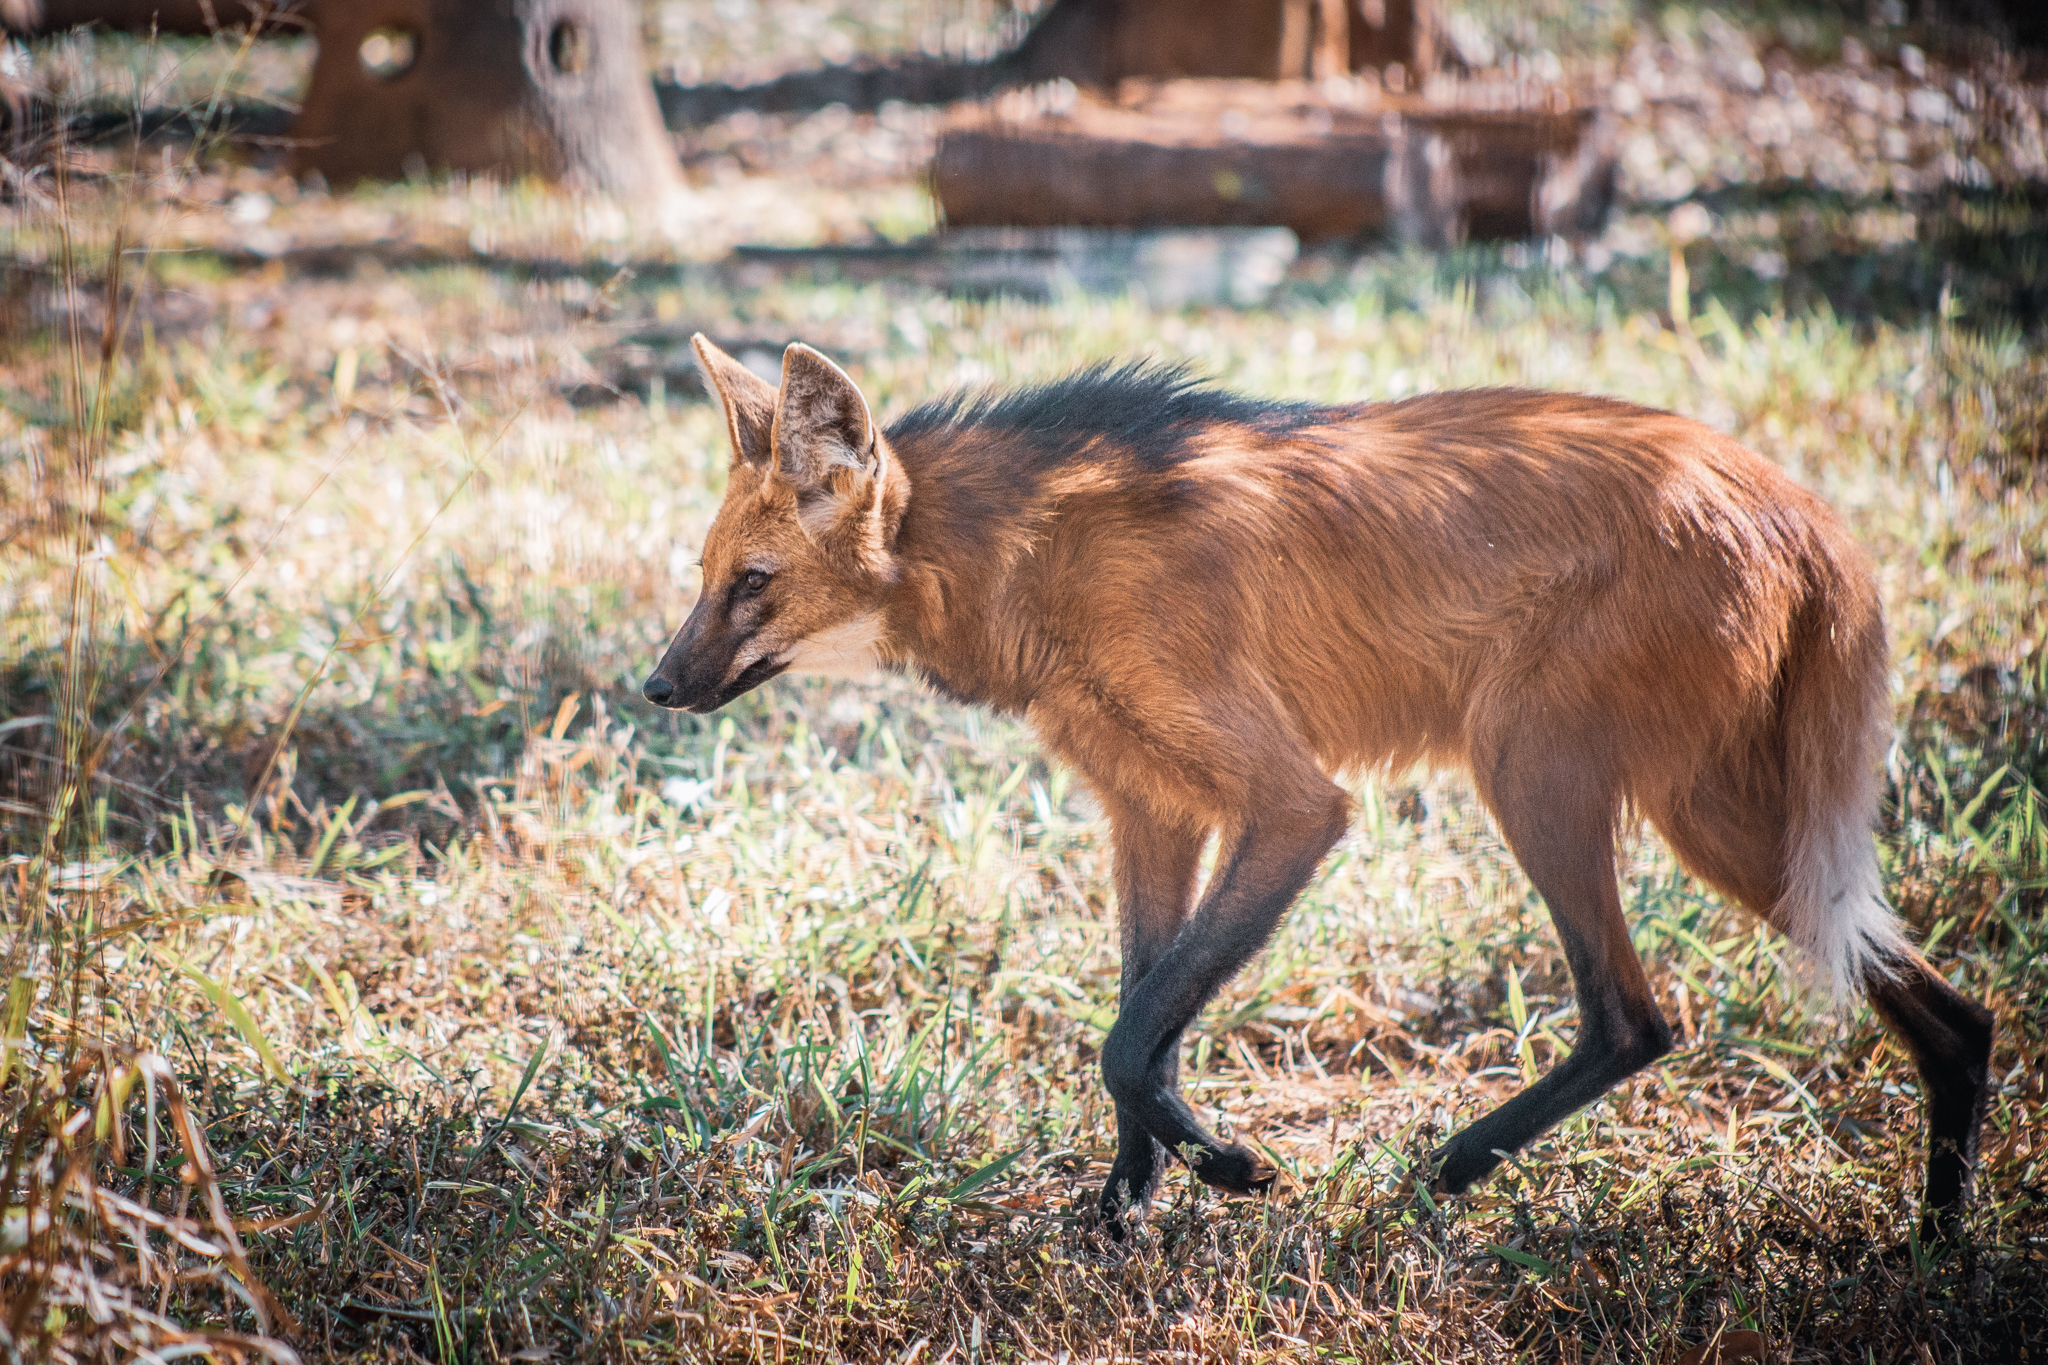LoboGuara: (630, 324, 1998, 1255)
